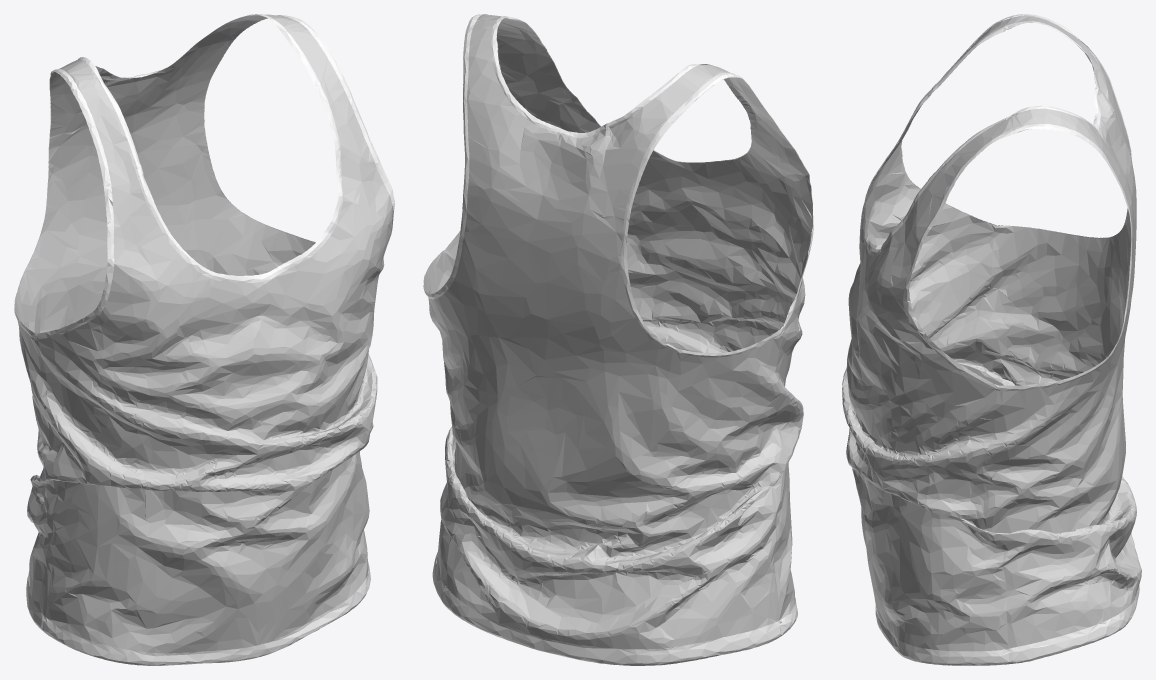
The model's file is mhw_elvs_male_athletic_tank1.glb.
3 views of the same model, side by side, from view 1: azimuth 30°, elevation 25°; view 2: azimuth 150°, elevation 25°; view 3: azimuth 270°, elevation 25° (orthographic). The views are drawn at different scales.
Parts seen in each view (by area): view 1: mhw_elvs_male_athletic_tank1; view 2: mhw_elvs_male_athletic_tank1; view 3: mhw_elvs_male_athletic_tank1.
Boxes of the visible parts, x1,y1,x2,y2 form: mhw_elvs_male_athletic_tank1: [14, 14, 394, 665]; mhw_elvs_male_athletic_tank1: [423, 14, 813, 665]; mhw_elvs_male_athletic_tank1: [842, 14, 1141, 665].
Bounding box in the file's own units: 0.359 × 0.5983 × 0.2933.
Materials: 1 (1 with a texture image).
